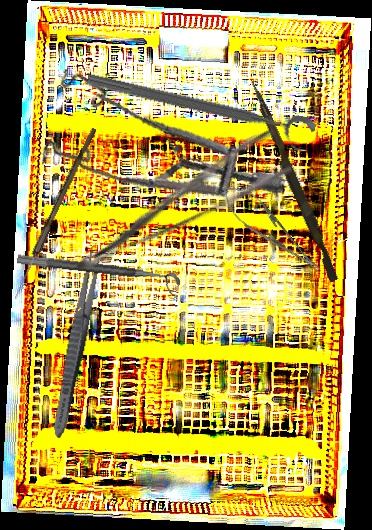Dressing Forceps: (58, 126, 295, 276), (48, 244, 105, 441)
Fixation Ring: (81, 67, 318, 156), (15, 253, 181, 298)
Needle Holder: (212, 176, 329, 282)
Pusher: (242, 79, 344, 283)
Speculum: (26, 33, 287, 235)
Surgical Spoon: (11, 125, 97, 302)
